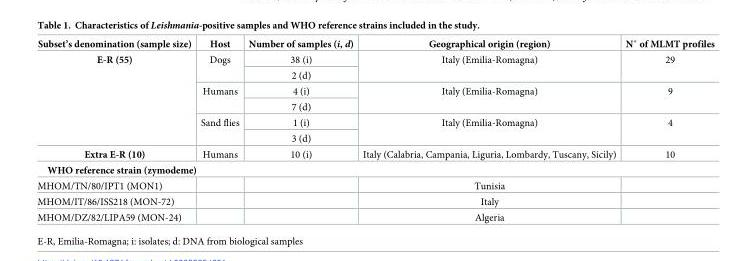table: (36, 36, 713, 222)
table column: (357, 36, 620, 222), (36, 36, 195, 222), (243, 36, 357, 222), (620, 36, 713, 222), (195, 36, 243, 222)
table column header: (36, 36, 713, 52)
table projected row header: (36, 162, 713, 177)
table row: (36, 36, 713, 52), (36, 67, 713, 83), (36, 98, 713, 114), (36, 114, 713, 130), (36, 130, 713, 146), (36, 146, 713, 162), (36, 177, 713, 193), (36, 193, 713, 209), (36, 52, 713, 67), (36, 83, 713, 98), (36, 162, 713, 177), (36, 209, 713, 222)
table spanning cell: (36, 52, 195, 146), (357, 114, 620, 146), (357, 52, 620, 83), (357, 83, 620, 114), (620, 114, 713, 146), (620, 52, 713, 83), (620, 83, 713, 114), (195, 114, 243, 146), (195, 52, 243, 83), (195, 83, 243, 114)
